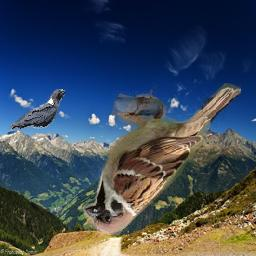Crow: (11, 89, 66, 129)
Sparrow: (83, 83, 241, 235)
